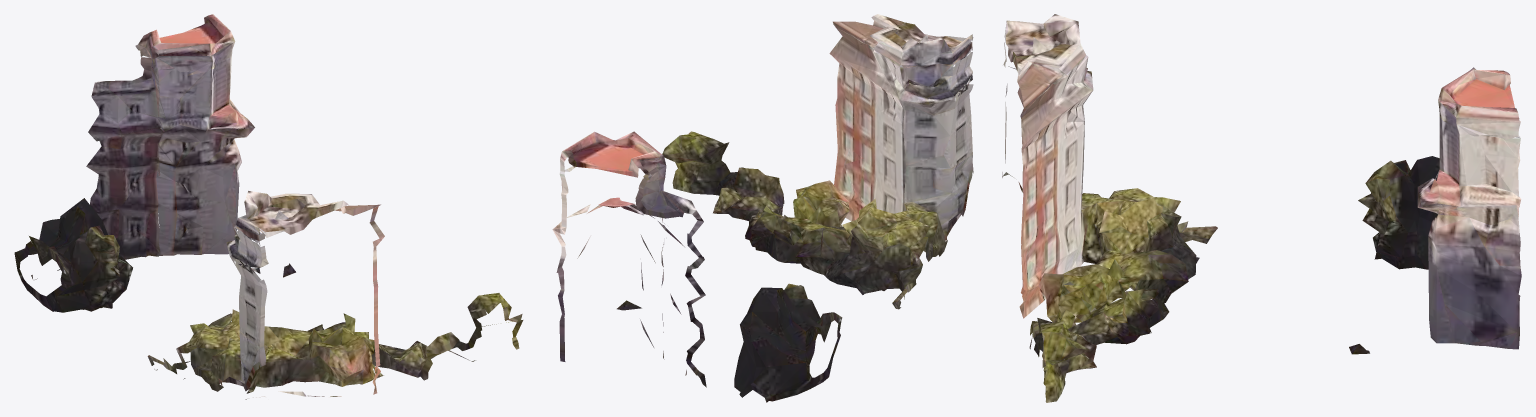
3 renders of one model, left to right at view 1: azimuth 30°, elevation 25°; view 2: azimuth 150°, elevation 25°; view 3: azimuth 270°, elevation 25°, orthographic. The views are drawn at different scales.
Visible parts, largest first — view 1: Mesh_0; view 2: Mesh_0; view 3: Mesh_0.
Part boxes in pixels (box(x1,y1,x2,y2)): Mesh_0: box(14, 14, 523, 399); Mesh_0: box(552, 14, 973, 402); Mesh_0: box(1002, 14, 1521, 402).
Bounding box in the file's own units: 33.18 × 21.19 × 40.87.
1 material, 1 textured.
